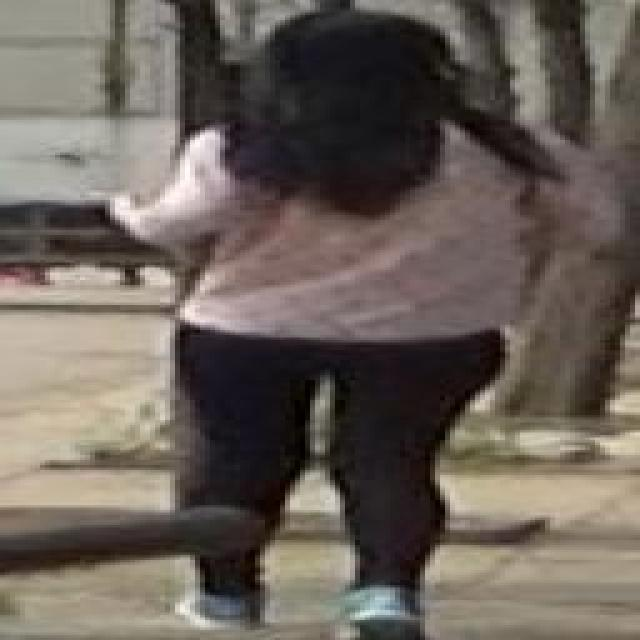adult: (92, 11, 625, 639)
